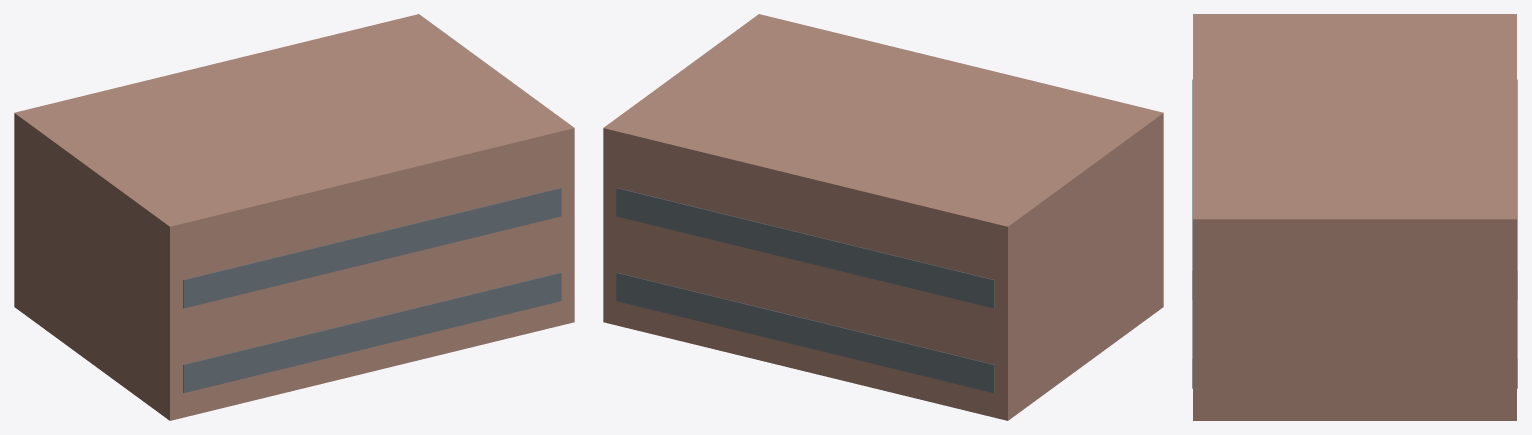
File: crash-station.loc-v1.lod2.glb
The picture shows the model from 3 angles, left to right: view 1: azimuth 30°, elevation 25°; view 2: azimuth 150°, elevation 25°; view 3: azimuth 270°, elevation 25°; orthographic projection. The views are drawn at different scales.
Parts seen in each view (by area): view 1: crash-station; view 2: crash-station; view 3: crash-station.
Boxes of the visible parts, <box> form: crash-station: <box>14,14,574,420</box>; crash-station: <box>603,14,1163,420</box>; crash-station: <box>1192,14,1517,420</box>.
Size of the model in its own units: 18 by 8.25 by 12.06.
